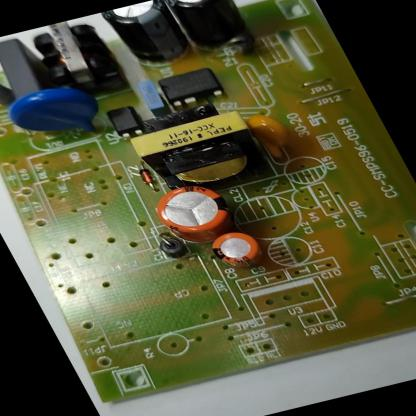Cap1: (144, 177, 246, 246)
Cap2: (198, 224, 275, 276)
Cap3: (158, 0, 269, 68)
Cap4: (100, 0, 205, 72)
MOSFET: (142, 62, 232, 116)
Mov: (0, 72, 133, 162)
Resistor: (0, 70, 27, 118)
Transformer: (123, 102, 288, 209), (24, 17, 138, 113)
